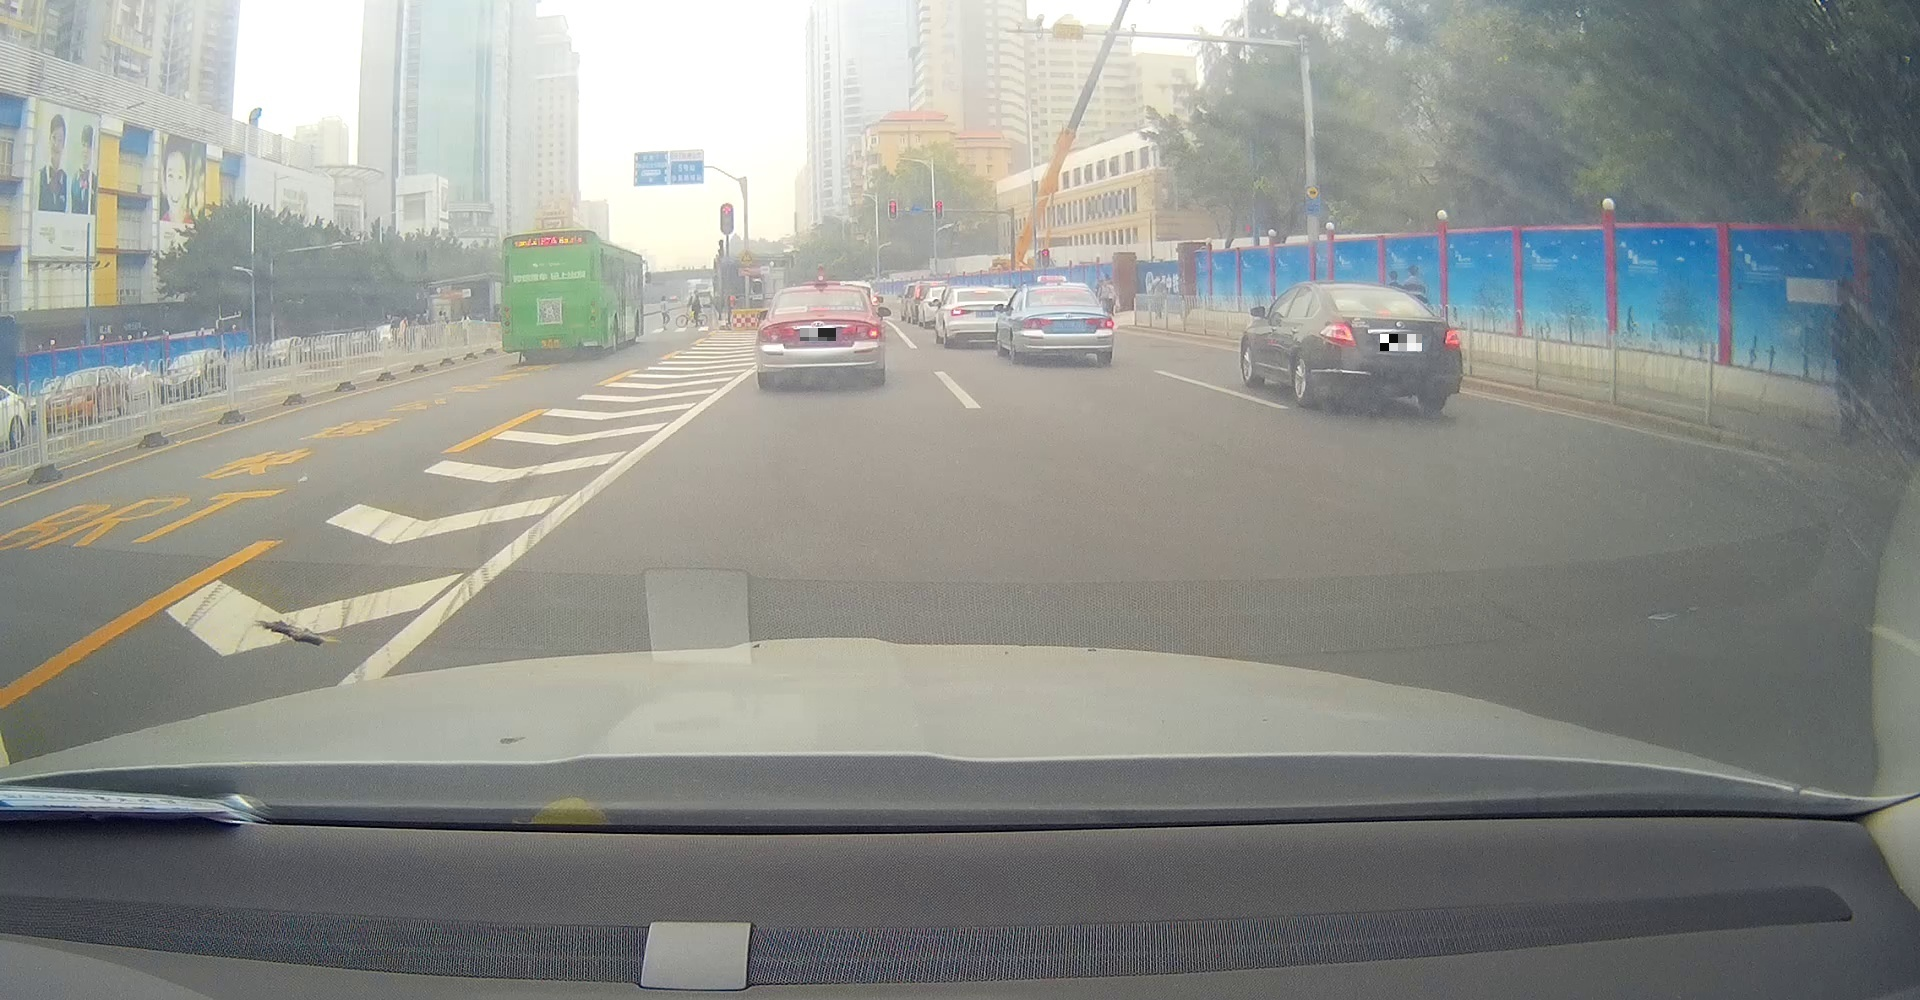L_light: (1319, 324, 1356, 348), (759, 327, 794, 344), (1023, 319, 1051, 327), (503, 305, 512, 332)
R_light: (842, 326, 877, 341), (1444, 327, 1462, 348), (588, 296, 597, 329), (1086, 319, 1112, 329)
T_light: (1373, 308, 1392, 316), (808, 306, 830, 311), (1051, 286, 1069, 289), (537, 244, 552, 247)
day-no: (1317, 283, 1463, 418), (500, 228, 598, 364), (1020, 282, 1114, 365)
day-right: (754, 286, 884, 390)
plate_1: (800, 327, 836, 341)
plate_2: (1380, 334, 1422, 352)
